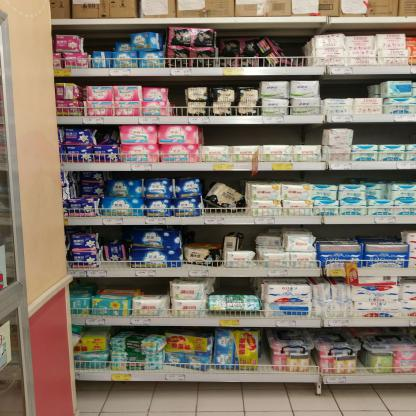Void: (199, 127, 319, 142), (76, 276, 164, 293), (318, 226, 399, 240), (362, 125, 414, 145), (323, 81, 374, 96), (220, 280, 262, 296), (187, 228, 223, 245), (278, 33, 304, 54), (168, 78, 184, 106), (90, 33, 108, 49), (240, 228, 251, 251)
